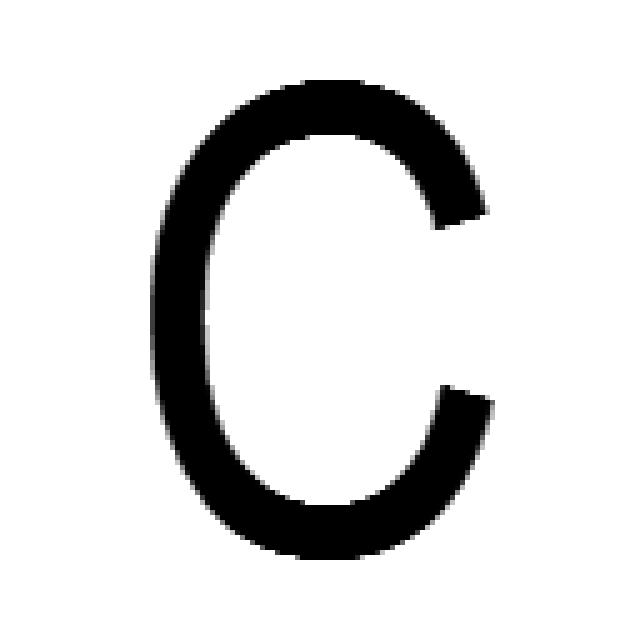C: (150, 80, 495, 565)
